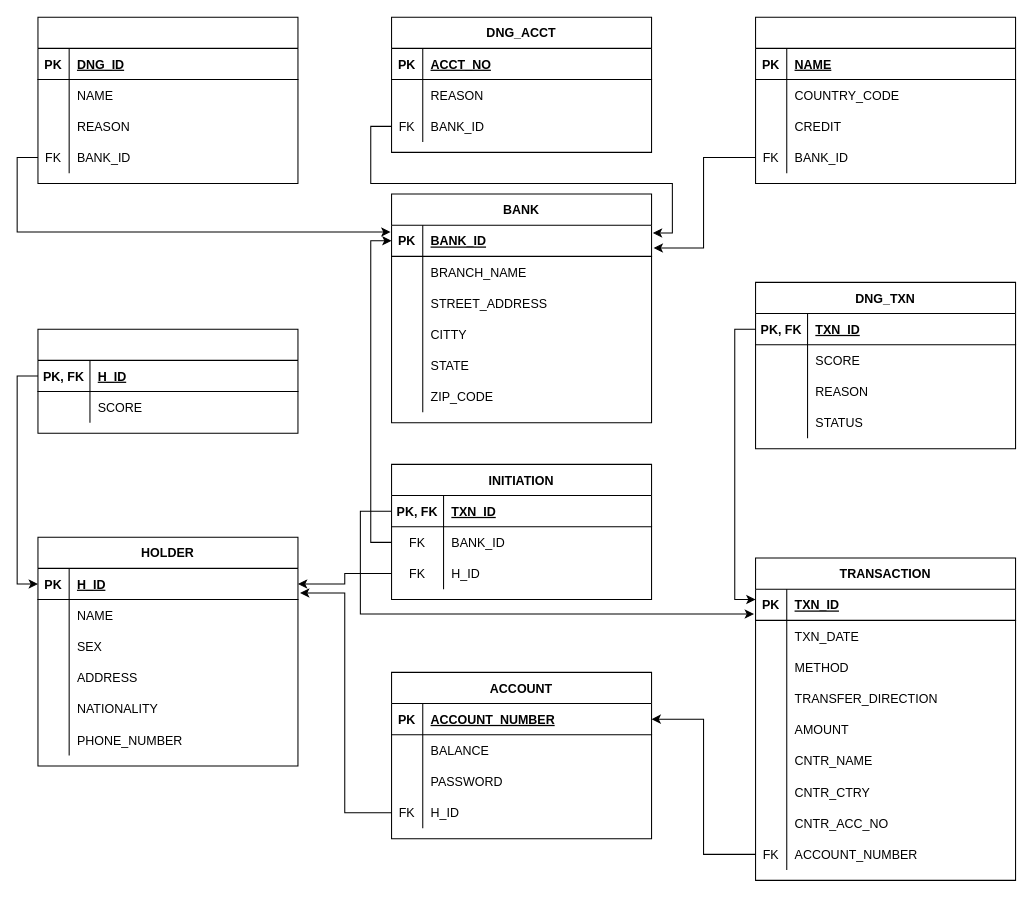
This 1033x898 diagram has some shape labels left out. The box of each missing label's shape, as (x1, y1, x2, y2) in pixels:
COUNTRY_CREDIT: (755, 16, 1016, 184)
DNG_HOLDER: (37, 328, 298, 433)
DNG_PERS: (37, 16, 298, 184)
